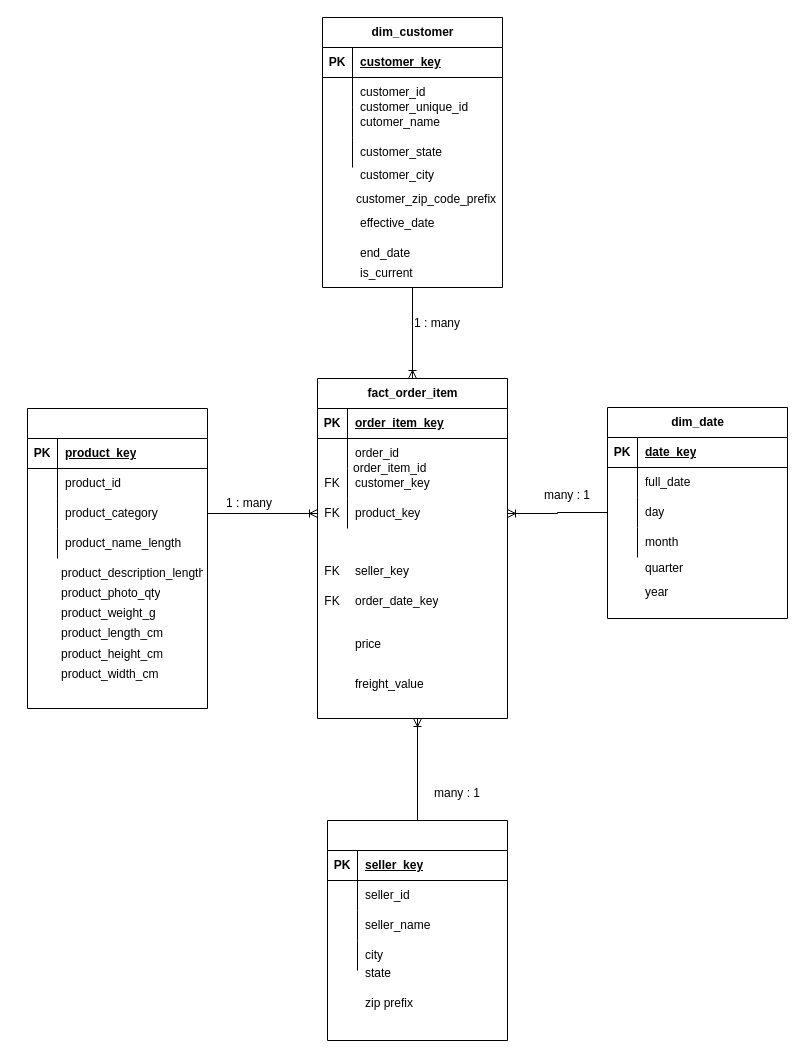
This 810x1058 diagram has some shape labels left out. Each missing label, with the box of its shape:
dim_product: (26, 408, 208, 708)
dim_seller: (326, 820, 508, 1040)
